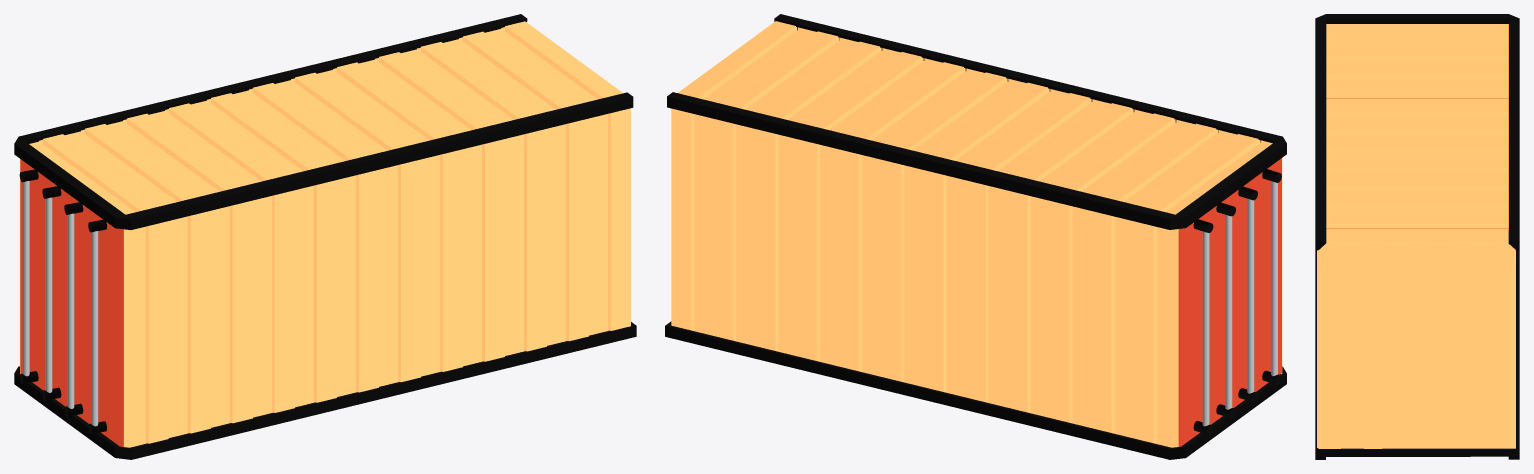
File: cont.fbx
3 renders of one model, left to right at view 1: azimuth 30°, elevation 25°; view 2: azimuth 150°, elevation 25°; view 3: azimuth 270°, elevation 25°, orthographic. The views are drawn at different scales.
Parts seen in each view (by area): view 1: Cube.003; view 2: Cube.003; view 3: Cube.003.
Part boxes in pixels (x1,y1,x2,y2): Cube.003: (14,14,636,459); Cube.003: (665,14,1286,459); Cube.003: (1315,14,1519,459).
Bounding box in the file's own units: 367 × 161 × 137.
